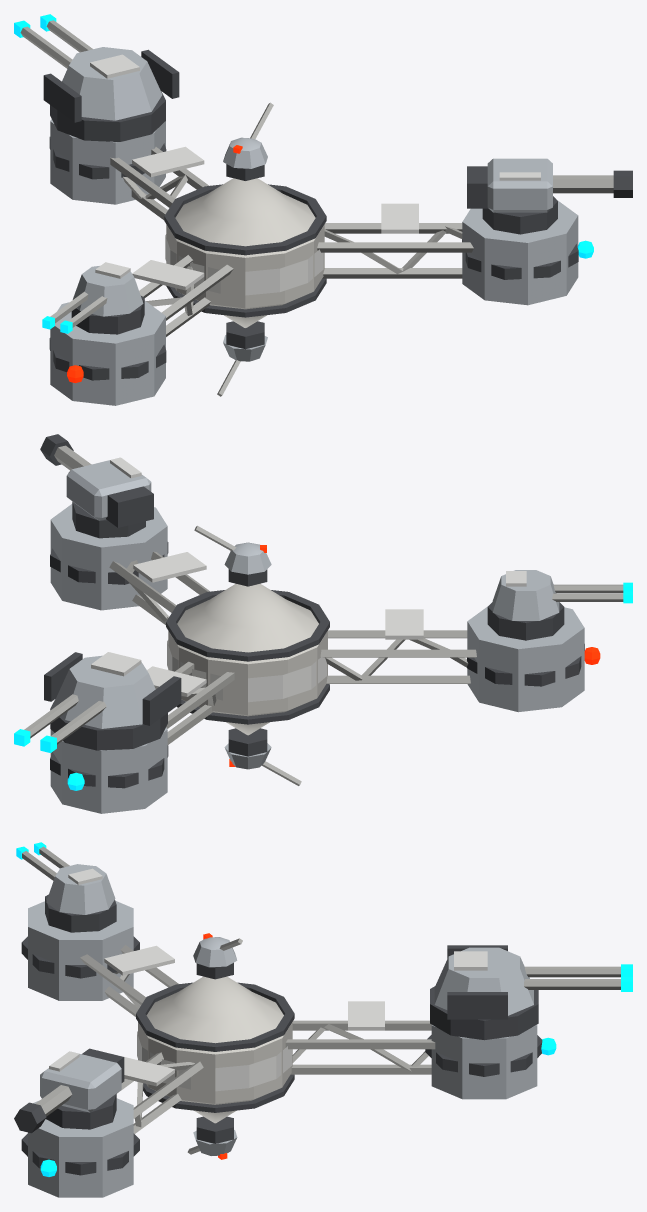
The model's file is medium_a.glb.
3 views of the same model, one above another, from view 1: azimuth 30°, elevation 25°; view 2: azimuth 150°, elevation 25°; view 3: azimuth 270°, elevation 25° (orthographic). The views are drawn at different scales.
Visible parts, largest first — view 1: medium_a, Turret_0, Turret_2, Turret_1, PD_0, PD_1; view 2: medium_a, Turret_0, Turret_2, Turret_1, PD_0, PD_1; view 3: medium_a, Turret_0, Turret_2, Turret_1, PD_0, PD_1.
Part boxes in pixels (x1,y1,x2,y2): medium_a: (49,119,593,405); Turret_0: (14,14,179,141); Turret_2: (467,158,632,234); Turret_1: (42,262,144,334); PD_0: (223,102,273,180); PD_1: (217,321,267,396); medium_a: (50,504,600,813); Turret_0: (14,652,181,752); Turret_2: (40,434,153,538); Turret_1: (487,570,632,640); PD_0: (194,526,271,586); PD_1: (224,728,301,785); medium_a: (21,900,556,1197); Turret_0: (430,945,632,1040); Turret_2: (14,1048,124,1133); Turret_1: (16,842,116,932); PD_0: (193,933,242,979); PD_1: (187,1116,237,1159).
Size of the model in its own units: 1.59 by 0.6653 by 1.48.
